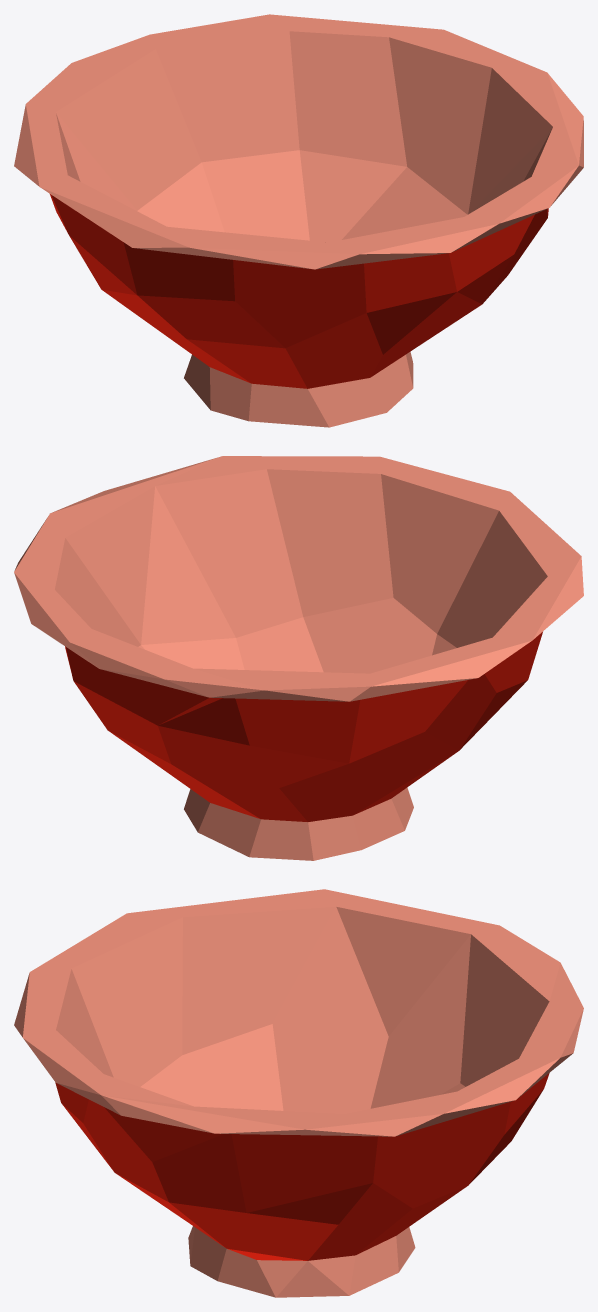
File: CerealBowl.fbx
3 renders of one model, top to bottom at view 1: azimuth 30°, elevation 25°; view 2: azimuth 150°, elevation 25°; view 3: azimuth 270°, elevation 25°, orthographic.
Parts seen in each view (by area): view 1: CerealBowlLowPoly; view 2: CerealBowlLowPoly; view 3: CerealBowlLowPoly.
Boxes of the visible parts, x1,y1,x2,y2 form: CerealBowlLowPoly: (14, 14, 583, 427); CerealBowlLowPoly: (14, 456, 583, 860); CerealBowlLowPoly: (14, 889, 583, 1297).
Bounding box in the file's own units: 15.75 × 7.4 × 15.77.
